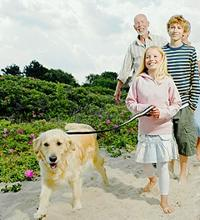person: (126, 47, 179, 213)
